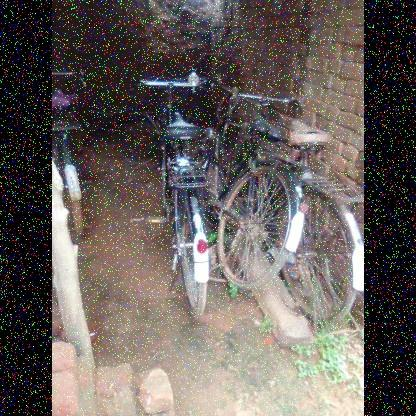Bicycle: (230, 78, 361, 347), (205, 62, 298, 345), (129, 62, 216, 332), (54, 53, 88, 243)
